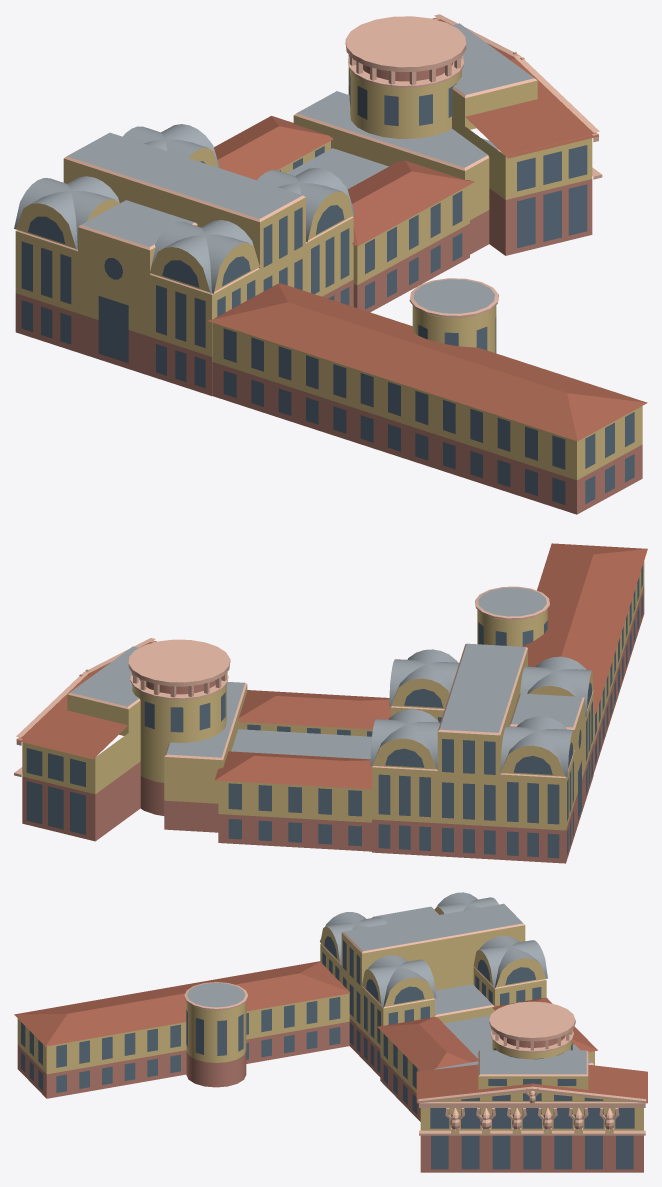
File: la-team-disney.glb
The picture shows the model from 3 angles, top to bottom: view 1: azimuth 30°, elevation 25°; view 2: azimuth 150°, elevation 25°; view 3: azimuth 270°, elevation 25°; orthographic projection. The views are drawn at different scales.
Parts seen in each view (by area): view 1: Team Disney – The Michael D. Eisner Building; view 2: Team Disney – The Michael D. Eisner Building; view 3: Team Disney – The Michael D. Eisner Building.
Part boxes in pixels (x1,y1,x2,y2): Team Disney – The Michael D. Eisner Building: (14, 14, 647, 514); Team Disney – The Michael D. Eisner Building: (14, 543, 647, 863); Team Disney – The Michael D. Eisner Building: (14, 892, 647, 1172).
Size of the model in its own units: 117 by 33 by 164.
